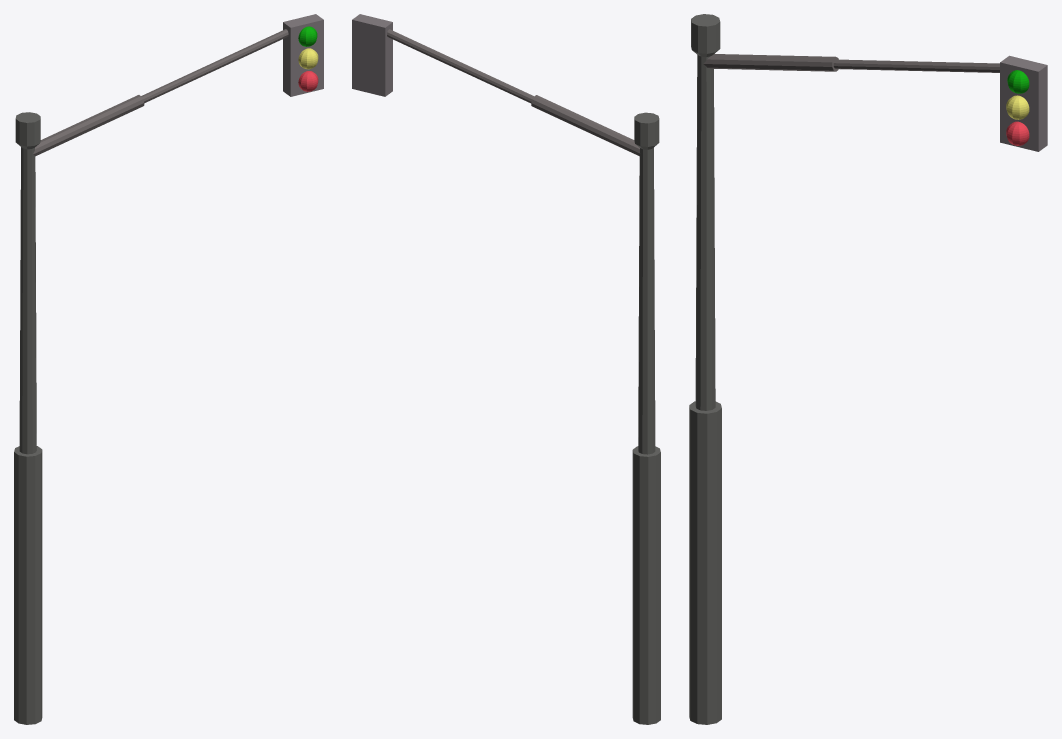
The model's file is stoplight.fbx.
3 views of the same model, side by side, from view 1: azimuth 30°, elevation 25°; view 2: azimuth 150°, elevation 25°; view 3: azimuth 330°, elevation 25° (orthographic). The views are drawn at different scales.
Visible parts, largest first — view 1: Cylinder, Cylinder.001, Cube; view 2: Cylinder, Cube, Cylinder.001; view 3: Cylinder, Cylinder.001, Cube.
Part boxes in pixels (x1,y1,x2,y2): Cylinder: (14,112,42,724); Cylinder.001: (33,29,288,156); Cube: (283,14,323,96); Cylinder: (632,112,660,724); Cube: (352,14,392,96); Cylinder.001: (387,29,639,156); Cylinder: (689,14,721,724); Cylinder.001: (703,54,999,72); Cube: (1000,55,1047,151).
Size of the model in its own units: 213 by 424 by 21.55.
